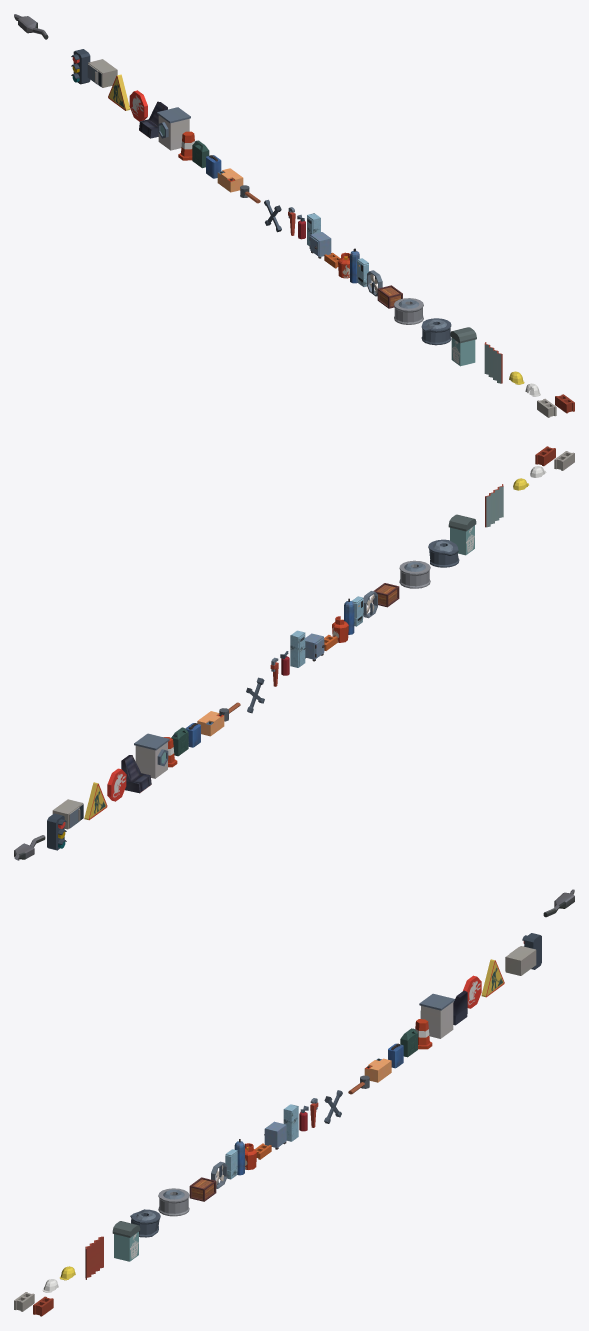
The model's file is GarbageCommon.fbx.
The picture shows the model from 3 angles, top to bottom: view 1: azimuth 30°, elevation 25°; view 2: azimuth 150°, elevation 25°; view 3: azimuth 330°, elevation 25°; orthographic projection. The views are drawn at different scales.
Visible parts, largest first — view 1: Garbage2, Garbage26, Garbage25, Garbage24, Garbage15, Garbage27, Garbage14; view 2: Garbage2, Garbage26, Garbage24, Garbage25, Garbage1, Garbage14, Garbage27, Garbage15, Garbage12; view 3: Garbage2, Garbage26, Garbage24, Garbage15, Garbage25, Garbage27.
Boxes of the visible parts, <box> form: Garbage2: <box>157,107,190,150</box>; Garbage26: <box>450,327,476,366</box>; Garbage25: <box>421,318,451,345</box>; Garbage24: <box>394,298,423,324</box>; Garbage15: <box>87,59,117,87</box>; Garbage27: <box>484,342,502,383</box>; Garbage14: <box>71,49,90,84</box>; Garbage2: <box>134,733,169,778</box>; Garbage26: <box>448,514,476,555</box>; Garbage24: <box>399,560,430,588</box>; Garbage25: <box>428,539,459,567</box>; Garbage1: <box>121,755,151,793</box>; Garbage14: <box>47,813,66,850</box>; Garbage27: <box>485,484,503,527</box>; Garbage15: <box>52,799,83,829</box>; Garbage12: <box>290,630,305,667</box>; Garbage2: <box>419,993,454,1038</box>; Garbage26: <box>112,1221,140,1261</box>; Garbage24: <box>158,1188,189,1216</box>; Garbage15: <box>505,946,536,975</box>; Garbage25: <box>130,1209,160,1237</box>; Garbage27: <box>85,1236,103,1279</box>.
Size of what is drawn, in the model's own units: 11.85 by 15.73 by 329.
